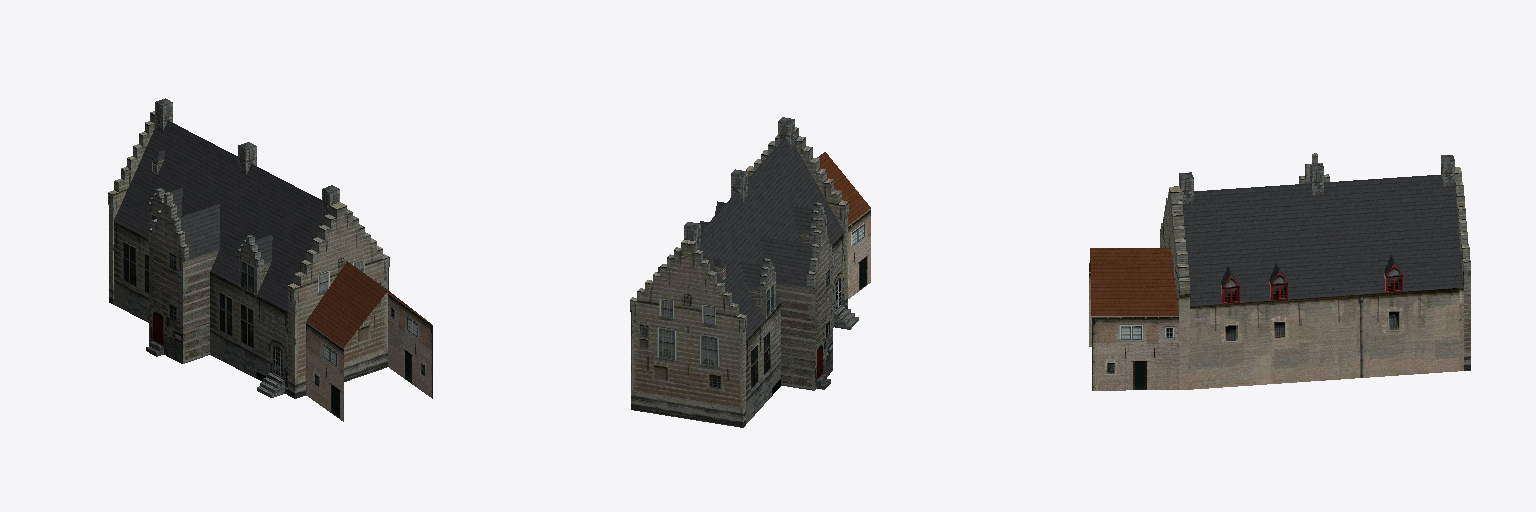
The picture shows the model from 3 angles: view 1: azimuth 30°, elevation 25°; view 2: azimuth 150°, elevation 25°; view 3: azimuth 270°, elevation 25°; orthographic projection.
Visible parts, largest first — view 1: house_obj4:polySurface4; view 2: house_obj4:polySurface4; view 3: house_obj4:polySurface4.
Boxes of the visible parts, <box> form: house_obj4:polySurface4: <box>108,98,432,421</box>; house_obj4:polySurface4: <box>630,117,870,427</box>; house_obj4:polySurface4: <box>1089,153,1470,390</box>.
Bounding box in the file's own units: 1326 × 1434 × 2632.
Materials: 1 (1 with a texture image).